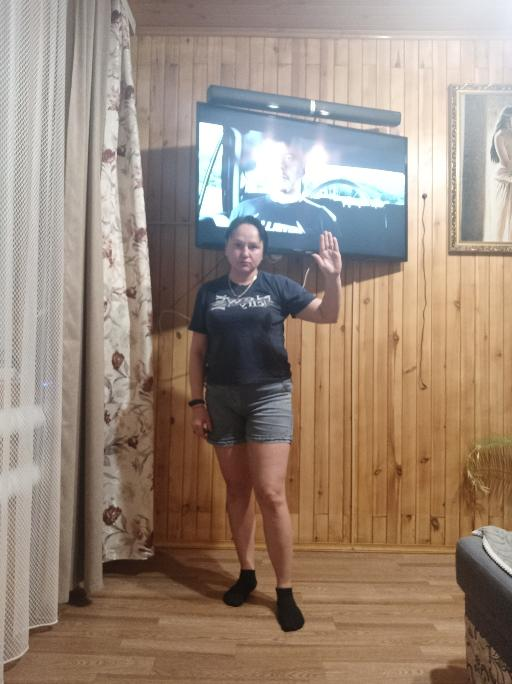no_gesture: (189, 405, 213, 439)
stop: (309, 229, 342, 279)
